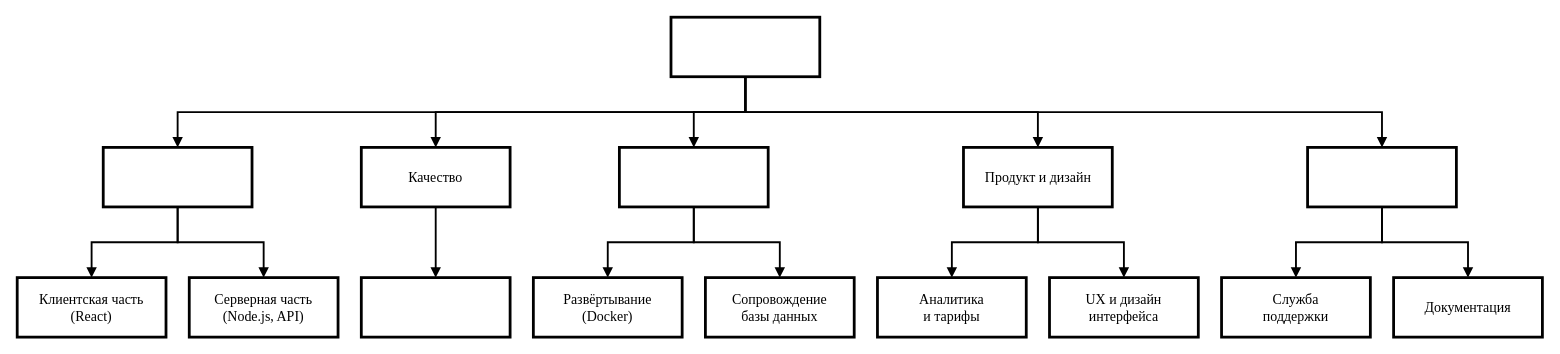
Image size: 1560x354. Some labels were removed from this diagram. Each missing label, with the box of its shape:
DevOps и инфраструктура: (618, 146, 769, 208)
Поддержка пользователей: (1306, 146, 1457, 208)
Разработка: (101, 146, 253, 208)
Руководитель проекта DSLKit: (669, 15, 821, 78)
Тестирование: (359, 276, 511, 338)
